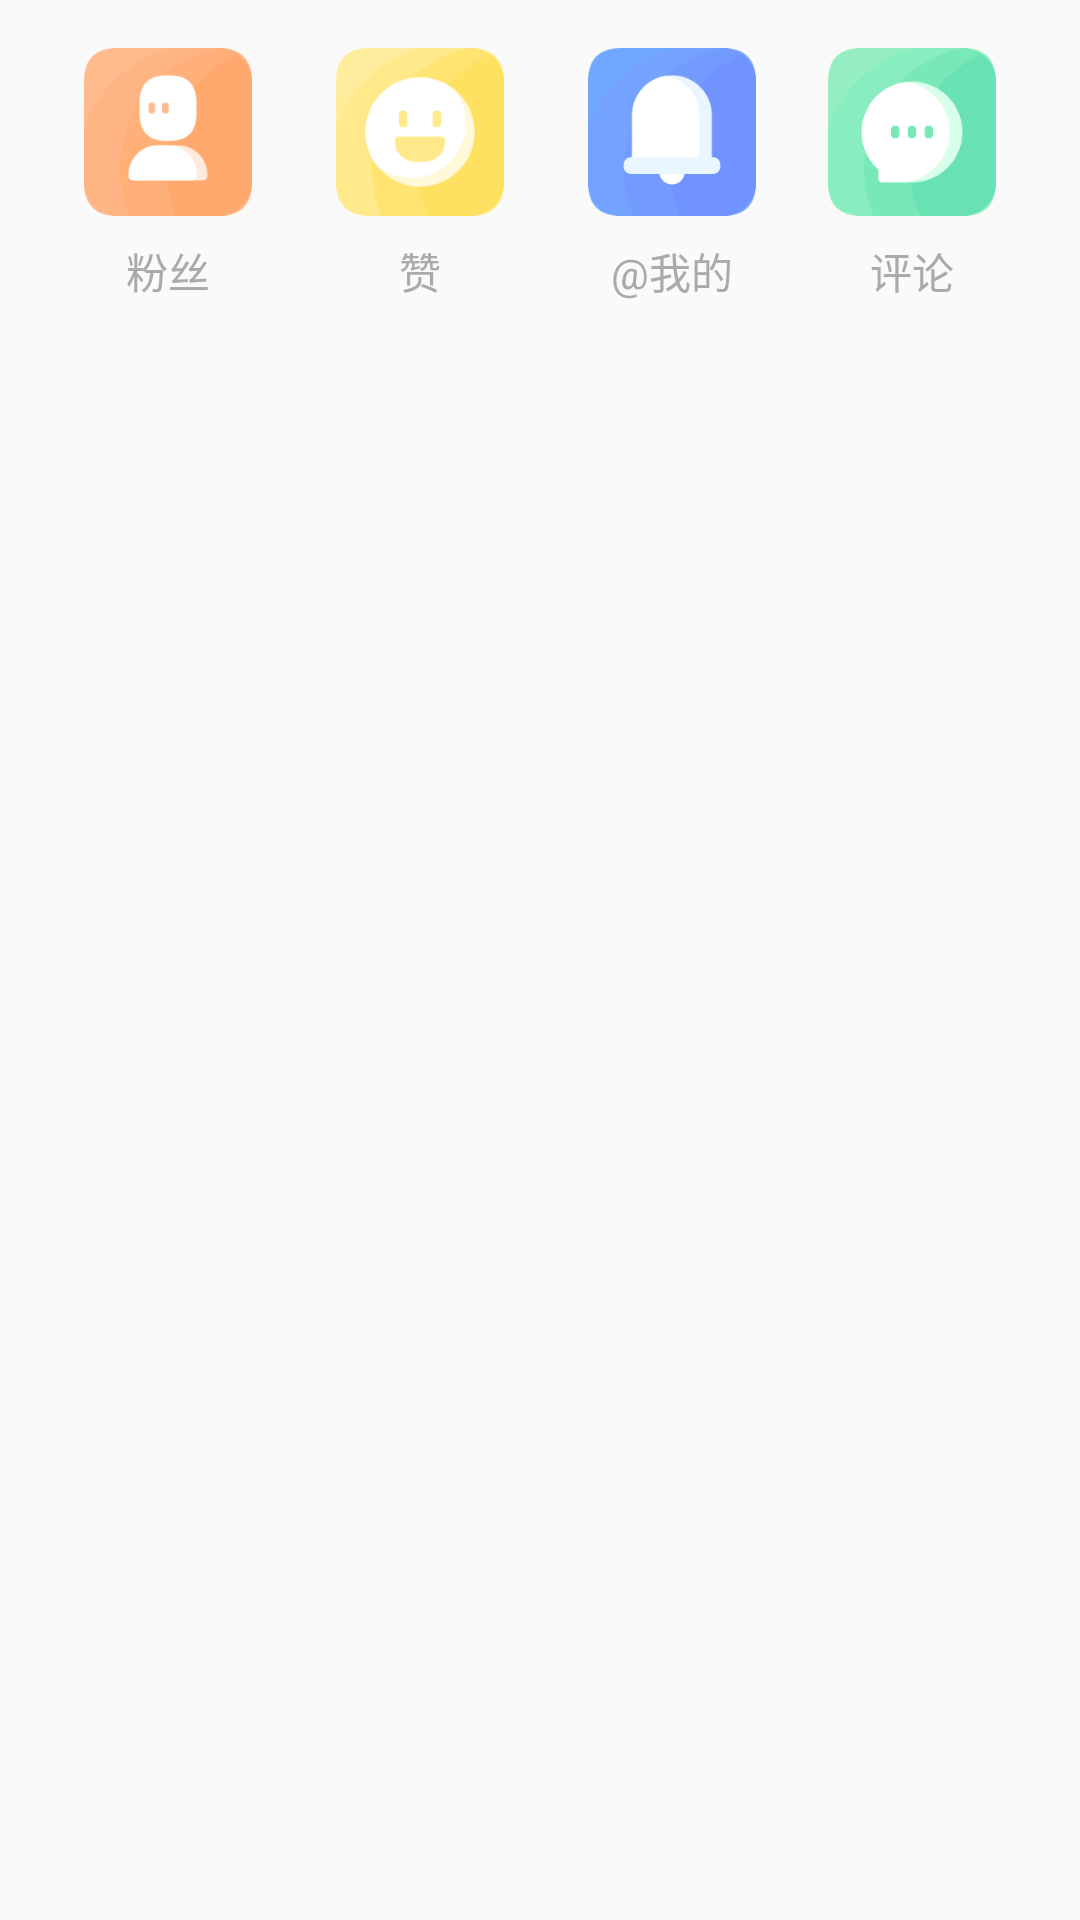

Locate icon controls on the screen. Image size 1080 x 1920, boxes as [x1=x1, y1=y1, x2=x2, y2=y2].
biaoqing: [x1=336, y1=48, x2=504, y2=216]
gerenzhongxin: [x1=84, y1=48, x2=252, y2=216]
liaotian: [x1=828, y1=48, x2=996, y2=216]
tongzhi: [x1=588, y1=48, x2=756, y2=216]
